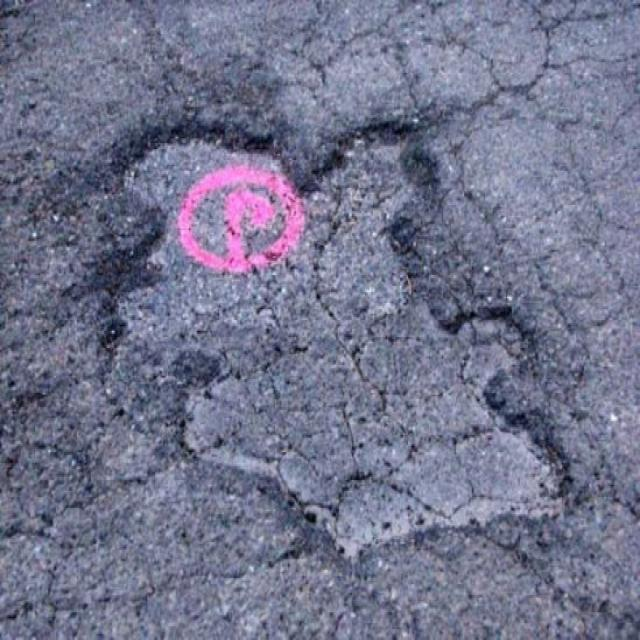Pothole: (79, 96, 581, 576)
